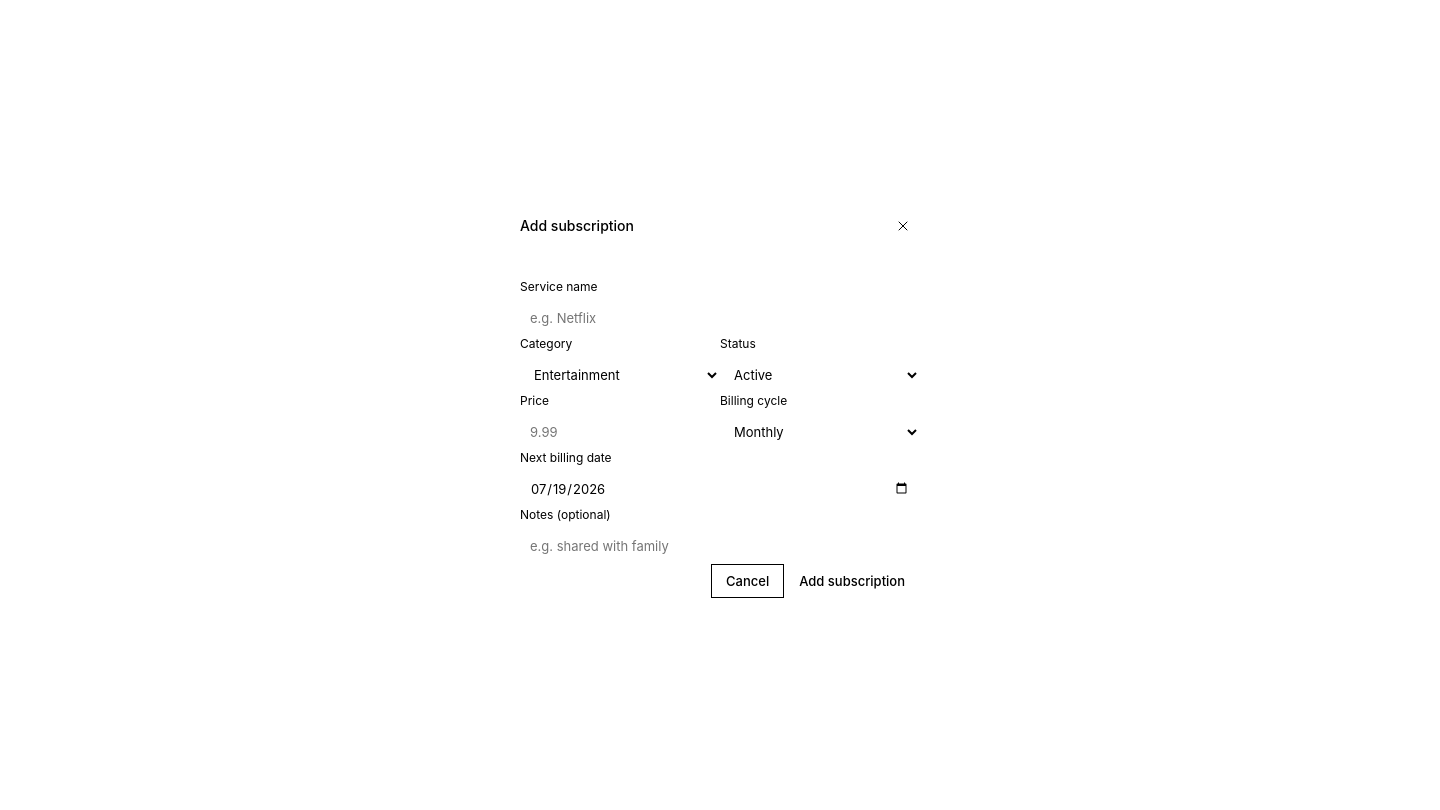
Test case: SubscriptionFormModal › shows validation errors and does not submit when name and price are empty
Click the button "Add subscription".
click(852, 580)  # box x1=784 y1=564 x2=920 y2=598
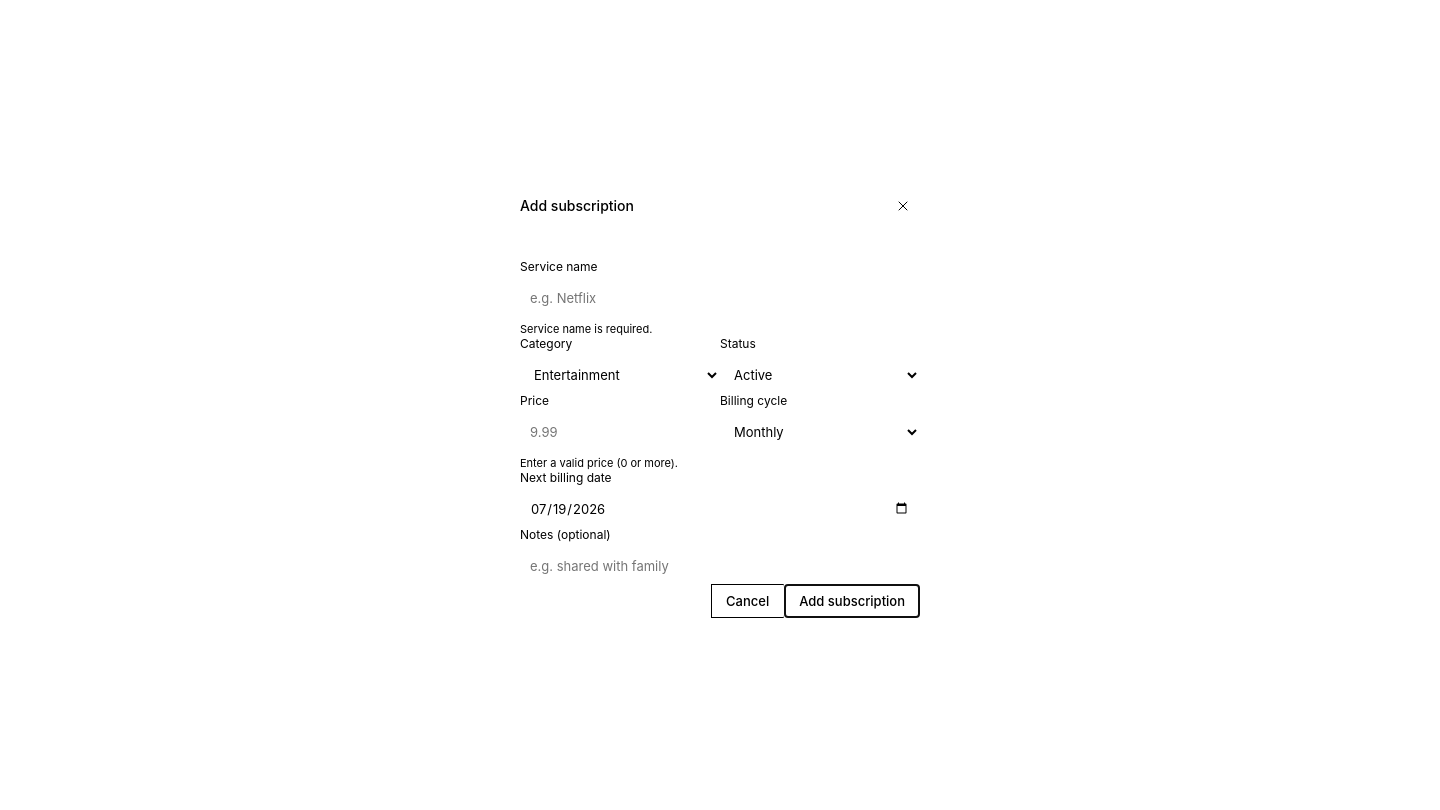
Result: the text "Service name is required." is shown at x1=520 y1=322 x2=652 y2=336
Result: the text "Enter a valid price (0 or more)." is shown at x1=520 y1=456 x2=678 y2=470
